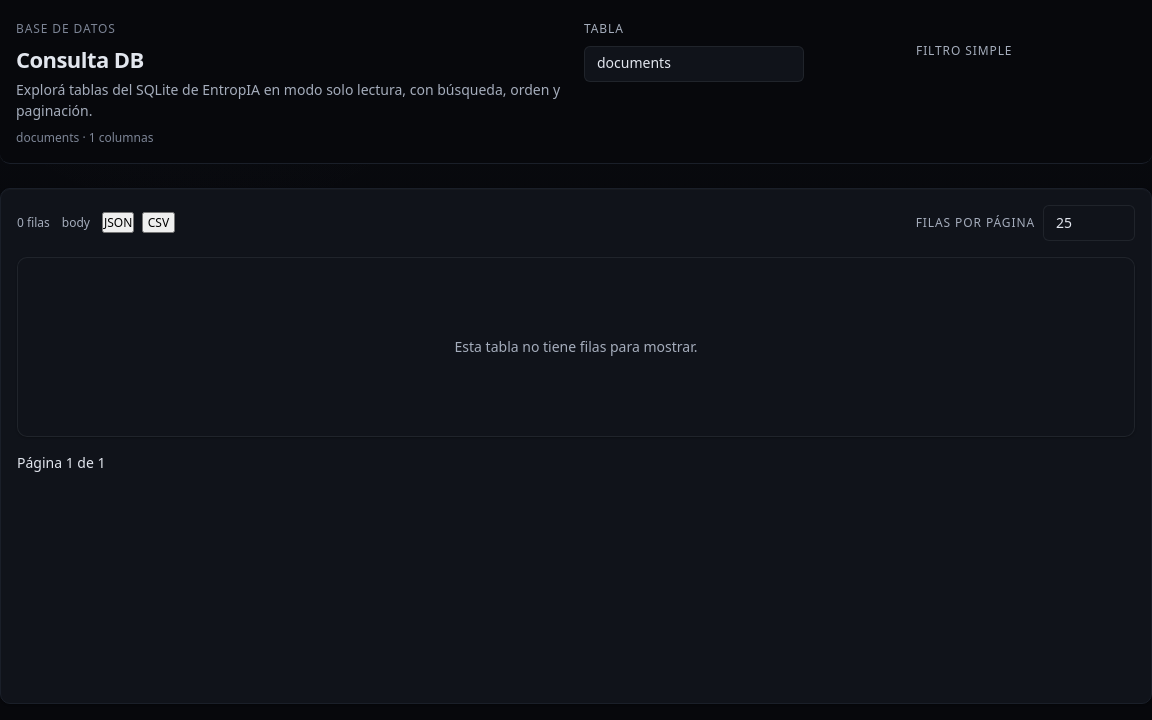
Test: DbBrowserView › disables both export actions while either format is being prepared
Check: the button with aria-label "Exportar CSV" is shown, box [142,212,175,234]
Click the button with aria-label "Exportar JSON" at {"x": 118, "y": 223}, box [102,212,134,234]
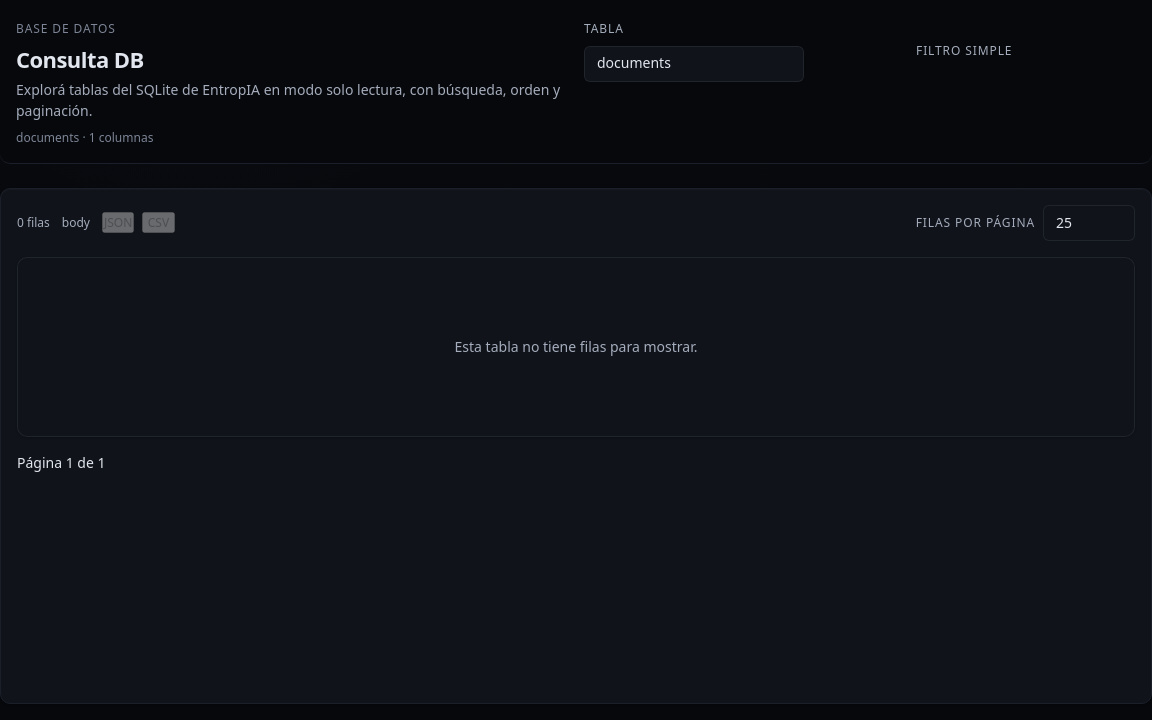
Check: the button with aria-label "Exportar JSON" is disabled, box [102,212,134,234]
Check: the button with aria-label "Exportar CSV" is disabled, box [142,212,175,234]
